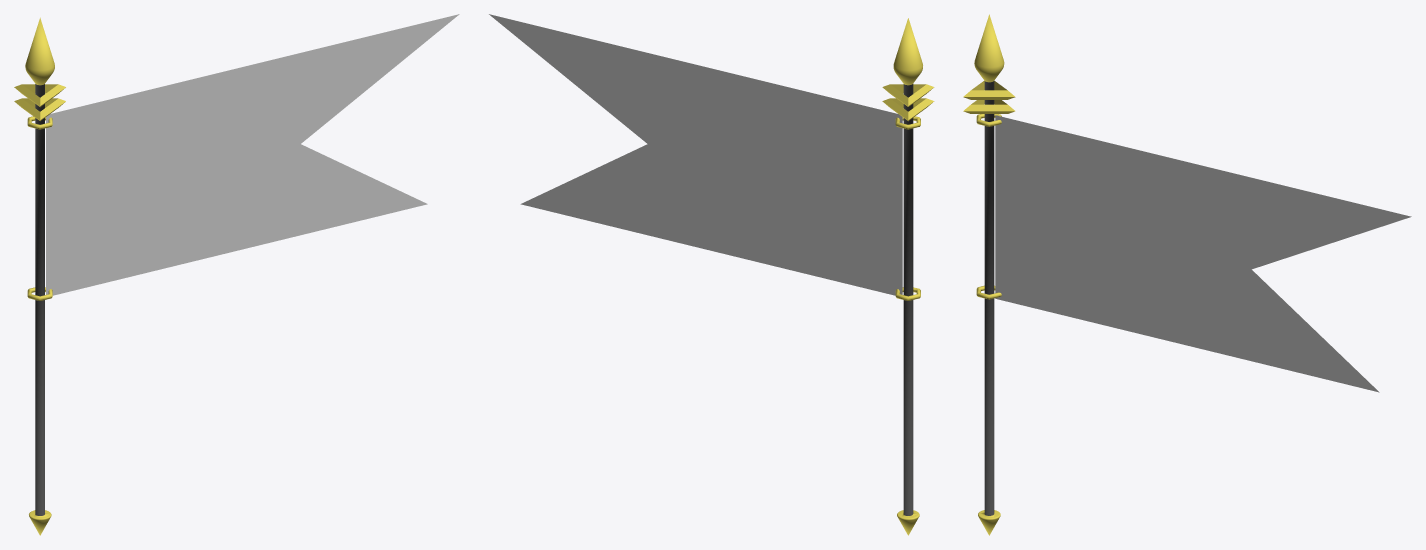
Rendered from Flag.fbx.
The picture shows the model from 3 angles, left to right: view 1: azimuth 30°, elevation 25°; view 2: azimuth 150°, elevation 25°; view 3: azimuth 330°, elevation 25°; orthographic projection.
Visible parts, largest first — view 1: Hata, Hatazao, Triangle1, Triangle2; view 2: Hata, Hatazao, Triangle1, Triangle2; view 3: Hata, Hatazao, Triangle1, Triangle2.
Part boxes in pixels (x1,y1,x2,y2): Hata: [46, 14, 459, 295]; Hatazao: [25, 17, 54, 535]; Triangle1: [14, 84, 65, 106]; Triangle2: [14, 98, 65, 120]; Hata: [489, 14, 902, 295]; Hatazao: [893, 18, 922, 535]; Triangle1: [882, 84, 934, 106]; Triangle2: [882, 98, 934, 121]; Hata: [995, 115, 1411, 392]; Hatazao: [974, 14, 1004, 535]; Triangle1: [963, 80, 1015, 99]; Triangle2: [963, 100, 1015, 113].
Size of the model in its own units: 207 by 236 by 21.65.
